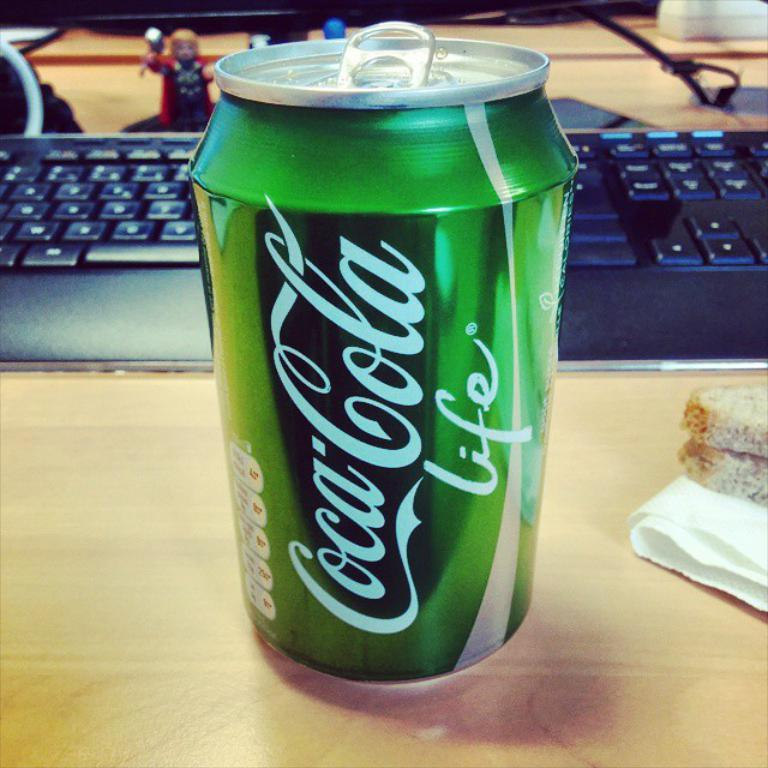Computer-keyboard: (2, 128, 767, 371)
